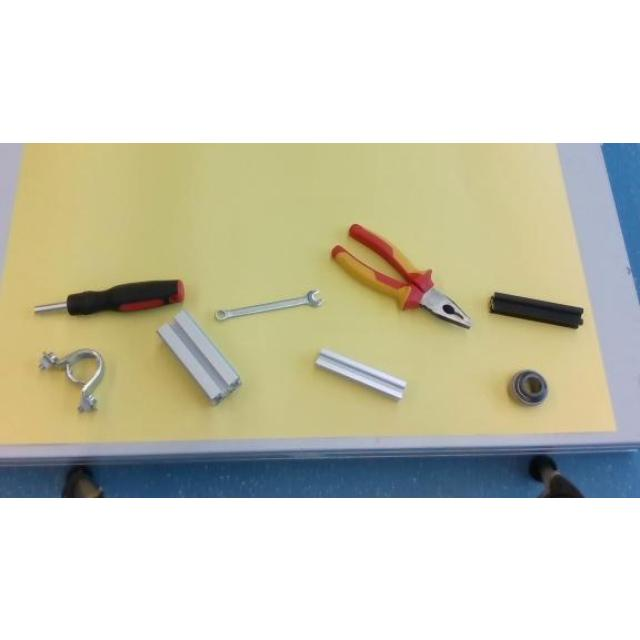Bearing2: (508, 368, 548, 404)
F20_20_B: (489, 290, 583, 328)
F20_20_G: (316, 348, 406, 398)
Housing: (39, 347, 103, 411)
S40_40_G: (157, 307, 241, 403)
